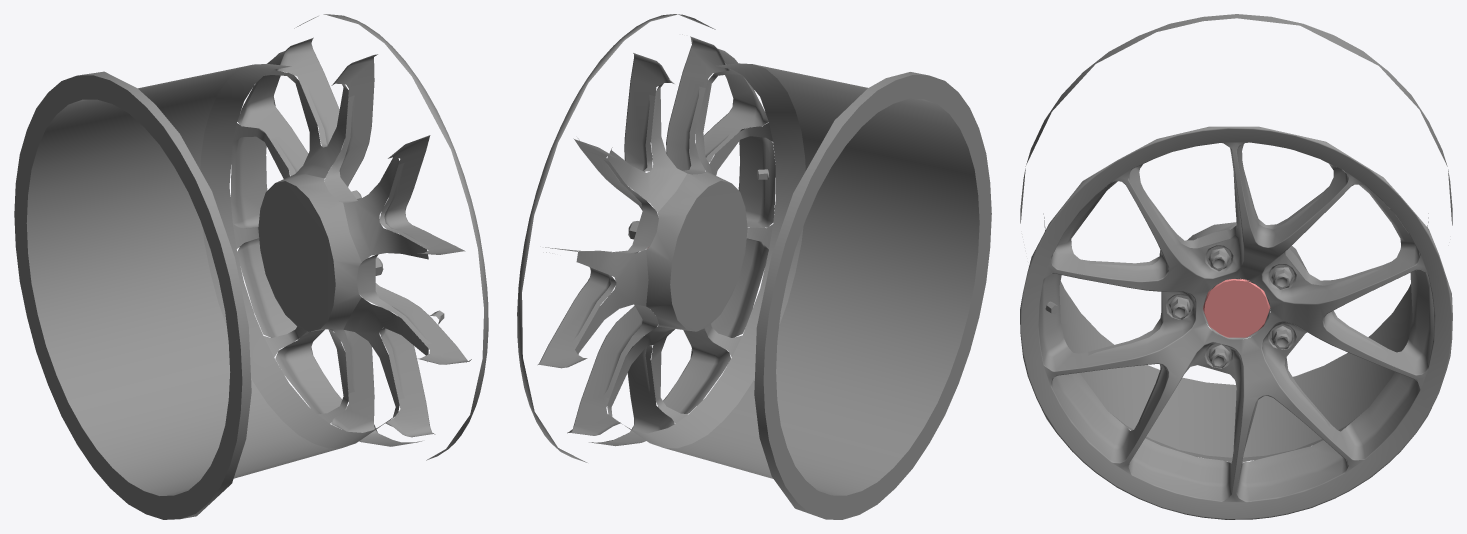
File: porsche_718_cayman_gt4_mr_rim_lr_Lod1.gltf
3 renders of one model, left to right at view 1: azimuth 30°, elevation 25°; view 2: azimuth 150°, elevation 25°; view 3: azimuth 270°, elevation 25°, orthographic. The views are drawn at different scales.
Visible parts, largest first — view 1: porsche_718_cayman_gt4_mr_rim_lr_Lod1; view 2: porsche_718_cayman_gt4_mr_rim_lr_Lod1; view 3: porsche_718_cayman_gt4_mr_rim_lr_Lod1.
Part boxes in pixels (x1=…): porsche_718_cayman_gt4_mr_rim_lr_Lod1: x1=14, y1=14, x2=488, y2=519; porsche_718_cayman_gt4_mr_rim_lr_Lod1: x1=517, y1=14, x2=991, y2=519; porsche_718_cayman_gt4_mr_rim_lr_Lod1: x1=1020, y1=14, x2=1452, y2=519.
Size of the model in its own units: 0.3097 by 0.4977 by 0.4973.
